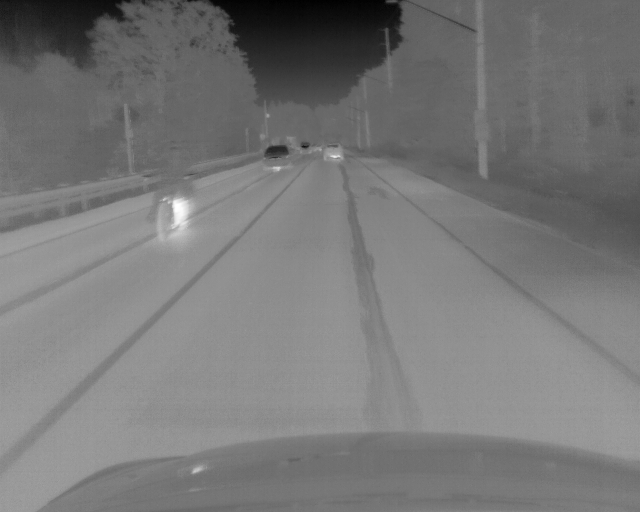bike: (143, 177, 199, 241)
car: (262, 145, 293, 172), (322, 144, 344, 163), (298, 141, 312, 156)
people: (159, 141, 194, 209)
